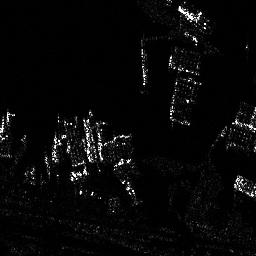ship: (138, 47, 148, 87)
